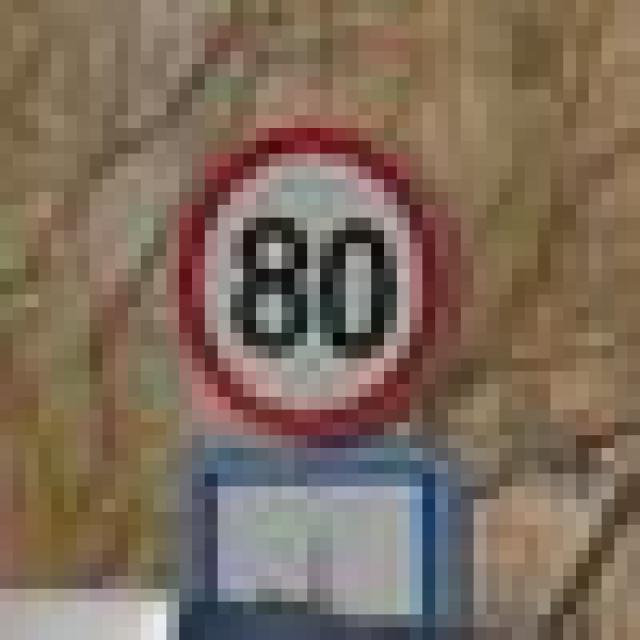speed_limit_50: (141, 102, 448, 436)
